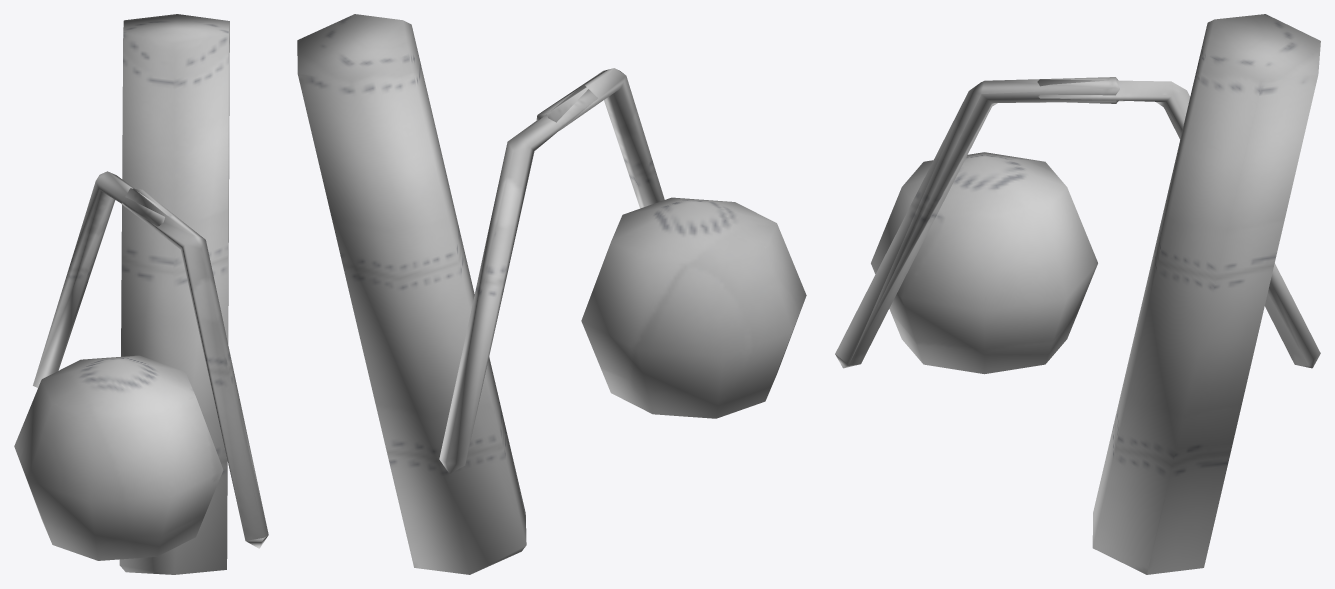
Rendered from LeftHand_C2.fbx.
The picture shows the model from 3 angles, left to right: view 1: azimuth 30°, elevation 25°; view 2: azimuth 150°, elevation 25°; view 3: azimuth 270°, elevation 25°; orthographic projection. The views are drawn at different scales.
Parts seen in each view (by area): view 1: Civ_BolsaCompras_LeftHand_C2; view 2: Civ_BolsaCompras_LeftHand_C2; view 3: Civ_BolsaCompras_LeftHand_C2.
Boxes of the visible parts, x1=… form: Civ_BolsaCompras_LeftHand_C2: x1=14, y1=14, x2=268, y2=574; Civ_BolsaCompras_LeftHand_C2: x1=297, y1=14, x2=806, y2=574; Civ_BolsaCompras_LeftHand_C2: x1=835, y1=14, x2=1320, y2=574.
Size of the model in its own units: 0.6308 by 0.9304 by 0.7433.
